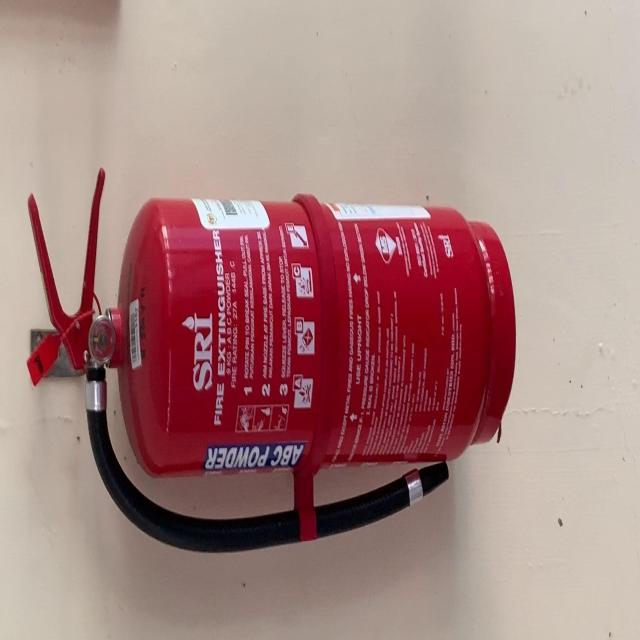fire_extinguisher: (23, 161, 520, 559)
